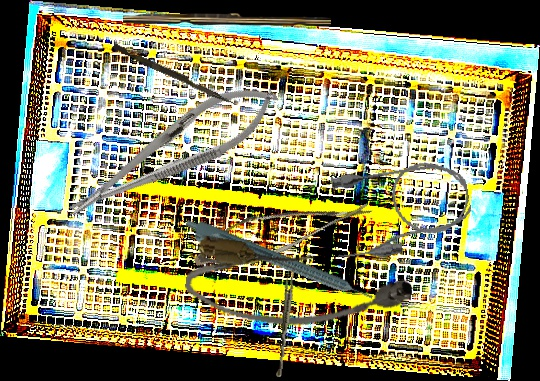Cannula: (181, 233, 416, 346), (322, 152, 478, 266)
Handpiece: (180, 215, 376, 312)
Micro Scissor: (188, 162, 376, 297)
Needle Holder: (56, 67, 289, 235)
Pusher: (110, 43, 238, 106)
Scalpel Handle: (123, 11, 331, 27)
Tissue Forceps: (275, 268, 296, 378)
